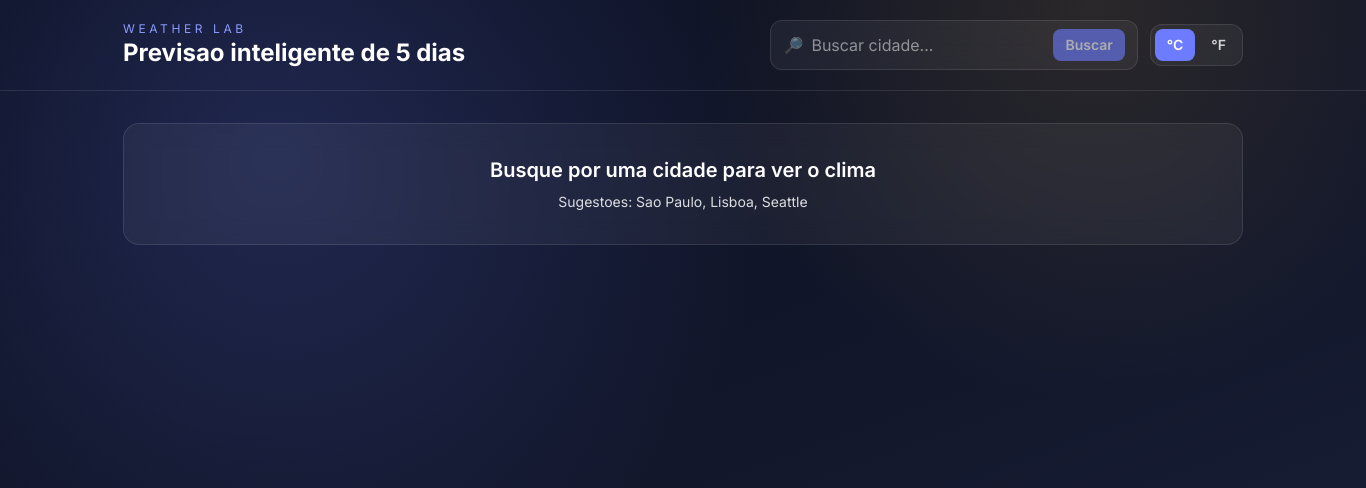
Test: App (mock-first) › exibe estado vazio para cidade nao encontrada
Type "Cidade Inexistente" into the field named "buscar cidade por nome" at (928, 45), box [811,33,1045,57]
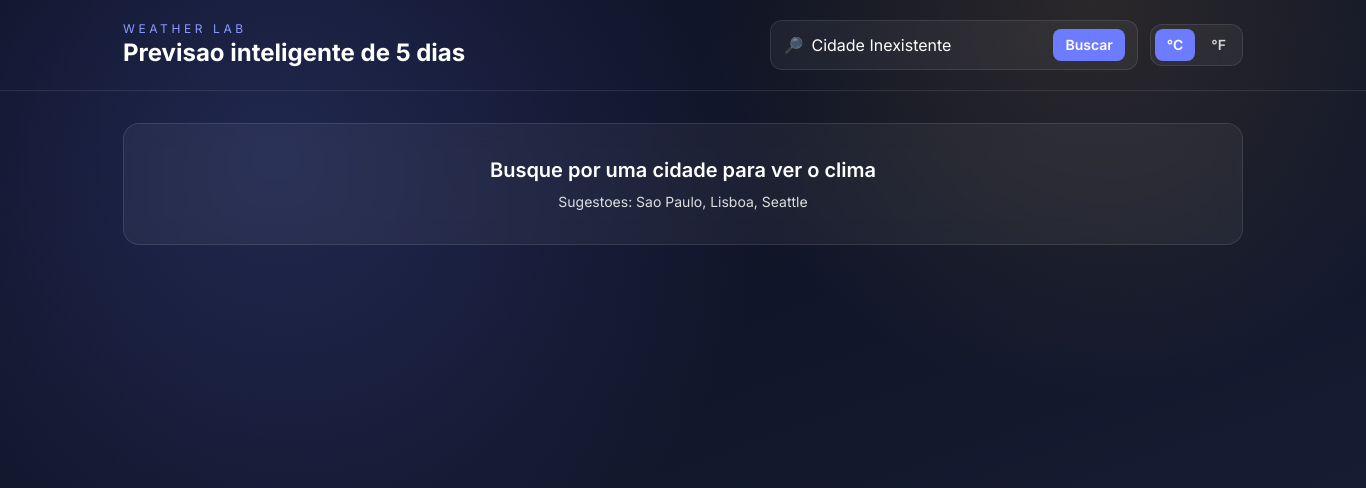
Click the button "Buscar" at (1089, 45), box [1053,29,1125,61]
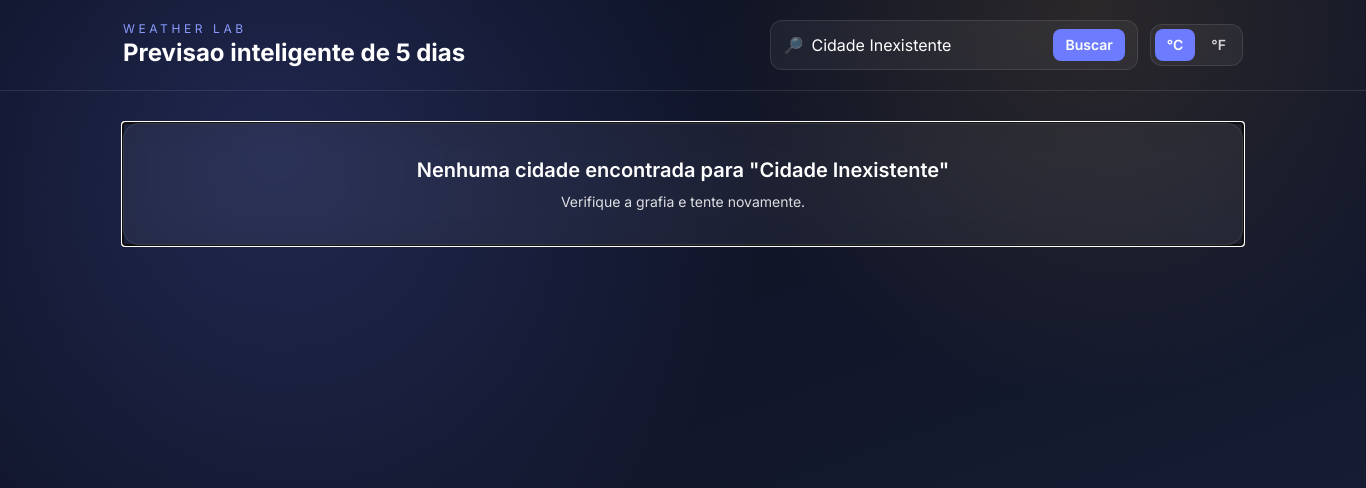
expect the heading "Nenhuma cidade encontrada para \"Cidade Inexistente\"" is shown: met, box [417,158,949,182]
